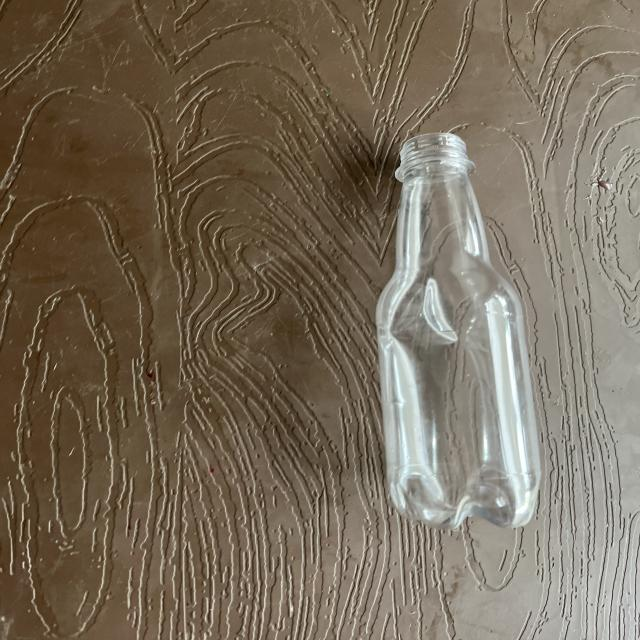PET_ClearBottle: (386, 125, 613, 532)
